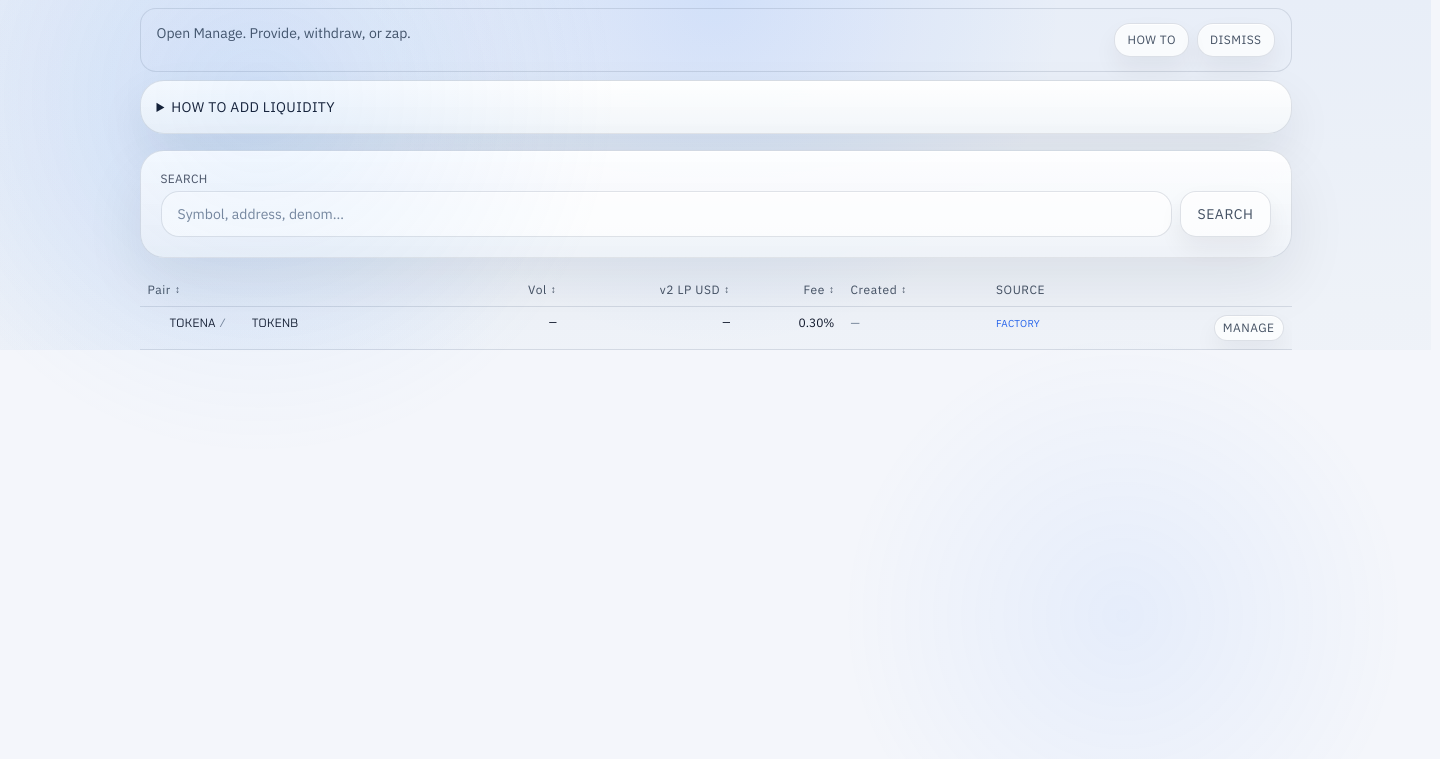
it: PoolPage › U2 connected with zero holdings: empty token and LP states
Click the button with test id "pool-row-manage": (1249, 328) x1=1214 y1=315 x2=1284 y2=341
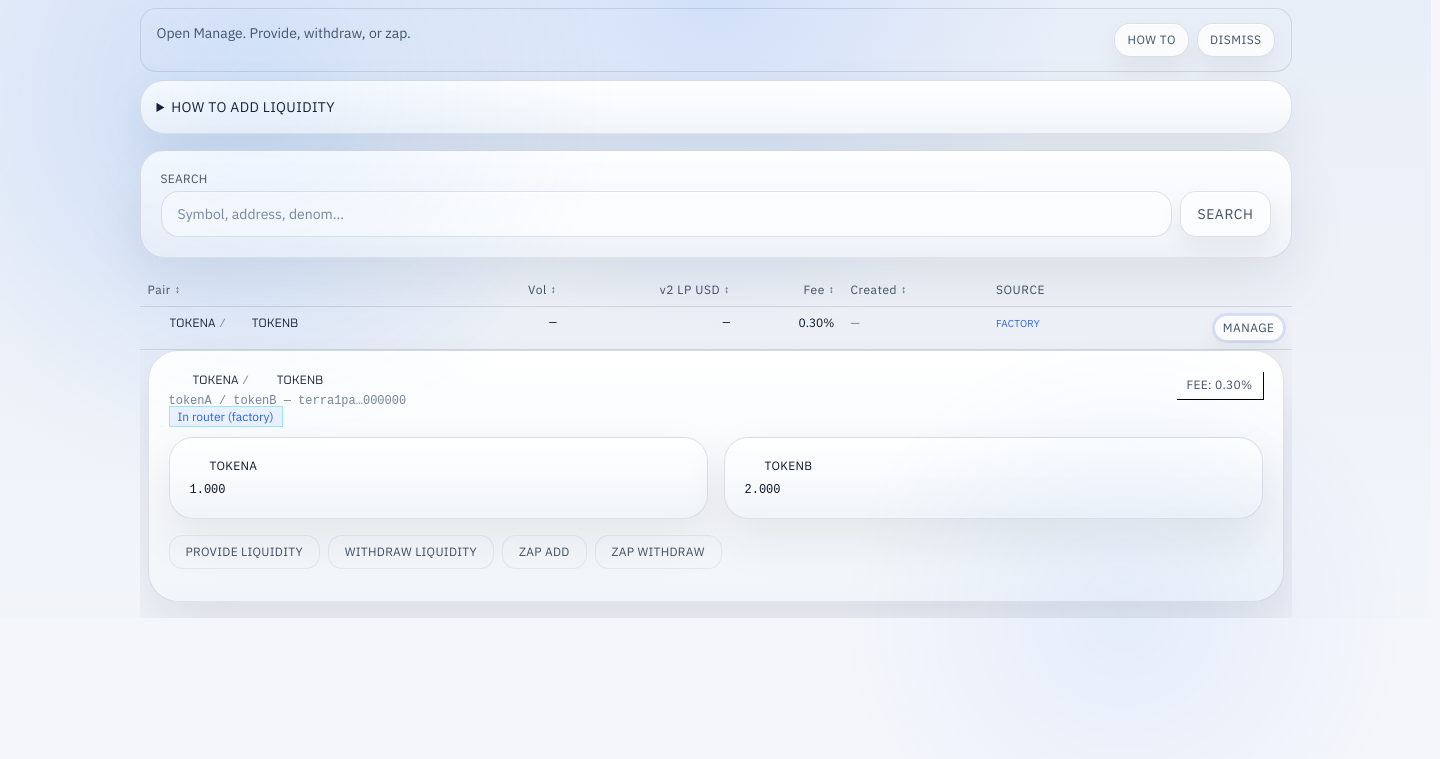
Result: the element with test id "pool-manage-actions" is shown at x1=168 y1=535 x2=722 y2=569
Click the button with test id "pool-manage-tab-zap-add": (544, 552) x1=502 y1=535 x2=587 y2=569
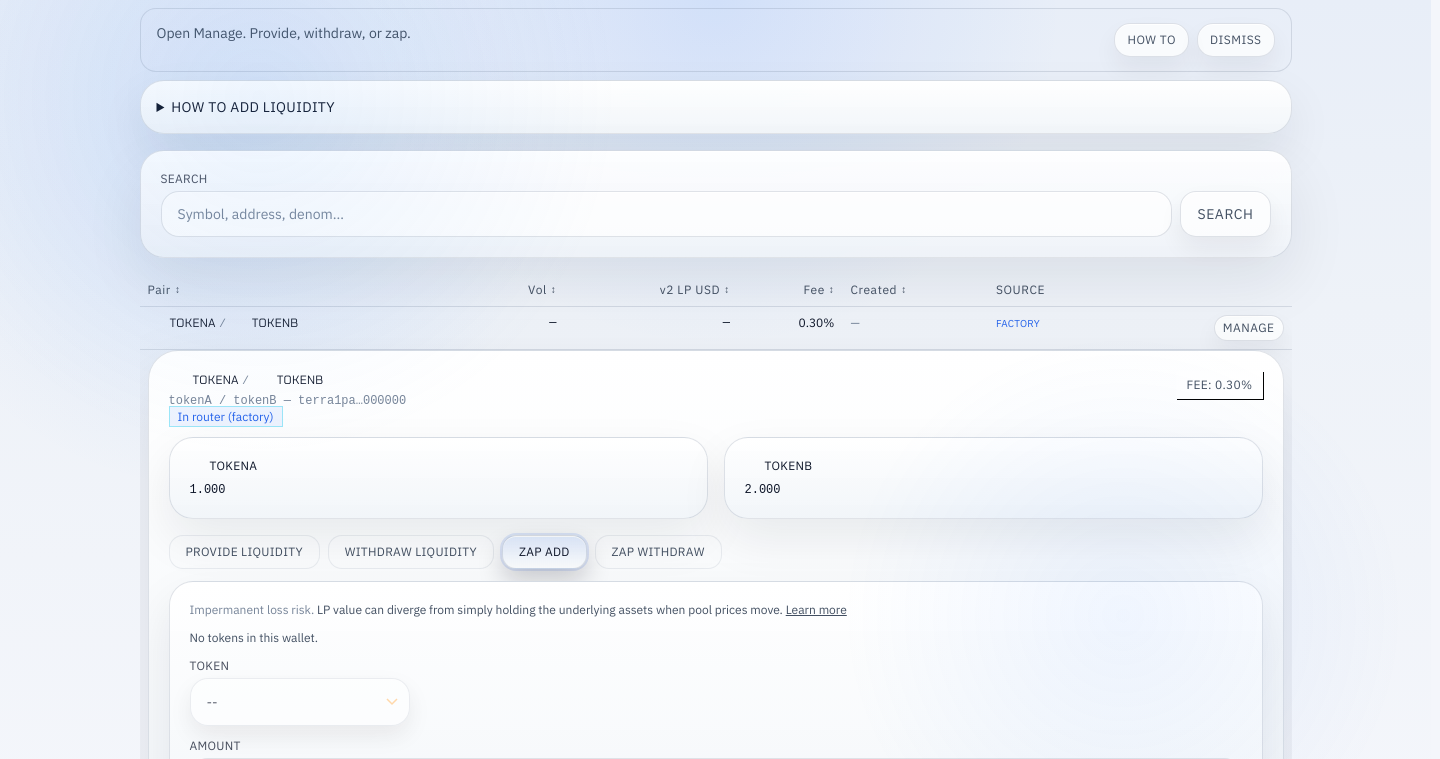
Result: the element with test id "pool-manage-actions" is shown at x1=168 y1=535 x2=722 y2=569
Result: the text "No tokens in this wallet." is shown at x1=190 y1=630 x2=318 y2=645
Click the button with test id "pool-manage-tab-zap-withdraw": (658, 552) x1=595 y1=535 x2=722 y2=569
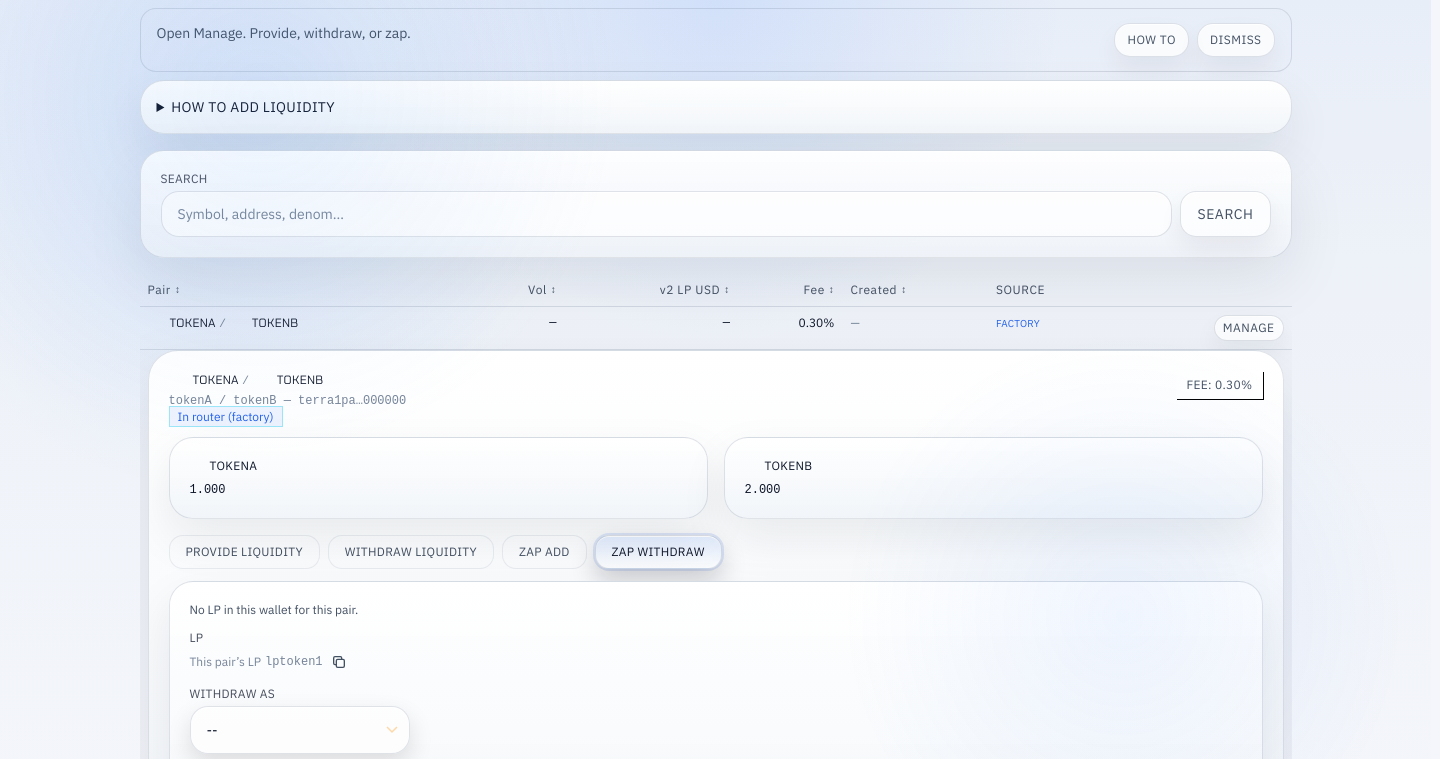
Result: the text "No LP in this wallet for this pair." is shown at x1=190 y1=602 x2=358 y2=617
